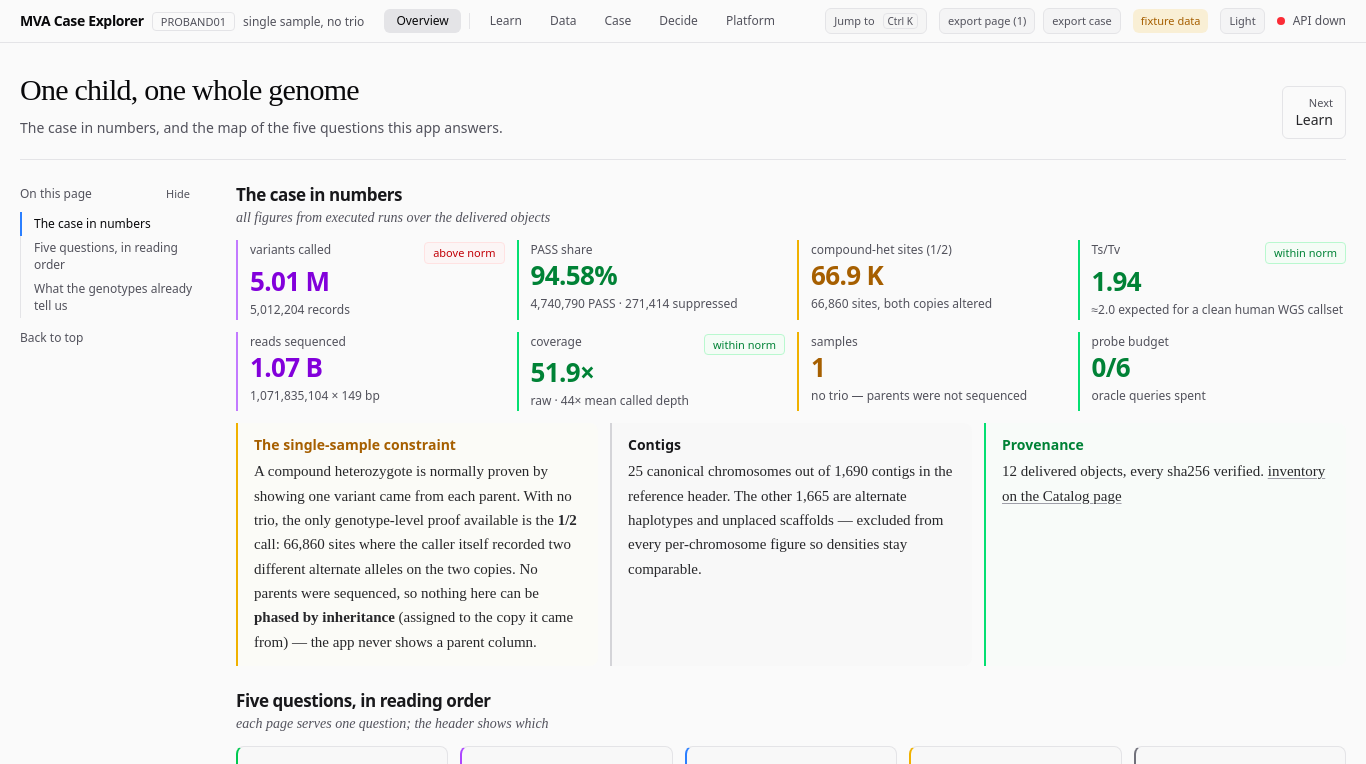
Test: navigating with the nav bar › renders the page the clicked link points at, not the previous one
The width and height of the screenshot is (1366, 764).
Expected: the heading "One child, one whole genome" is shown, [20,73,359,106]
# The Platform tab lands on its first page, Catalog.
Click the link "Platform".
click(750, 20)  # box [726,12,775,29]
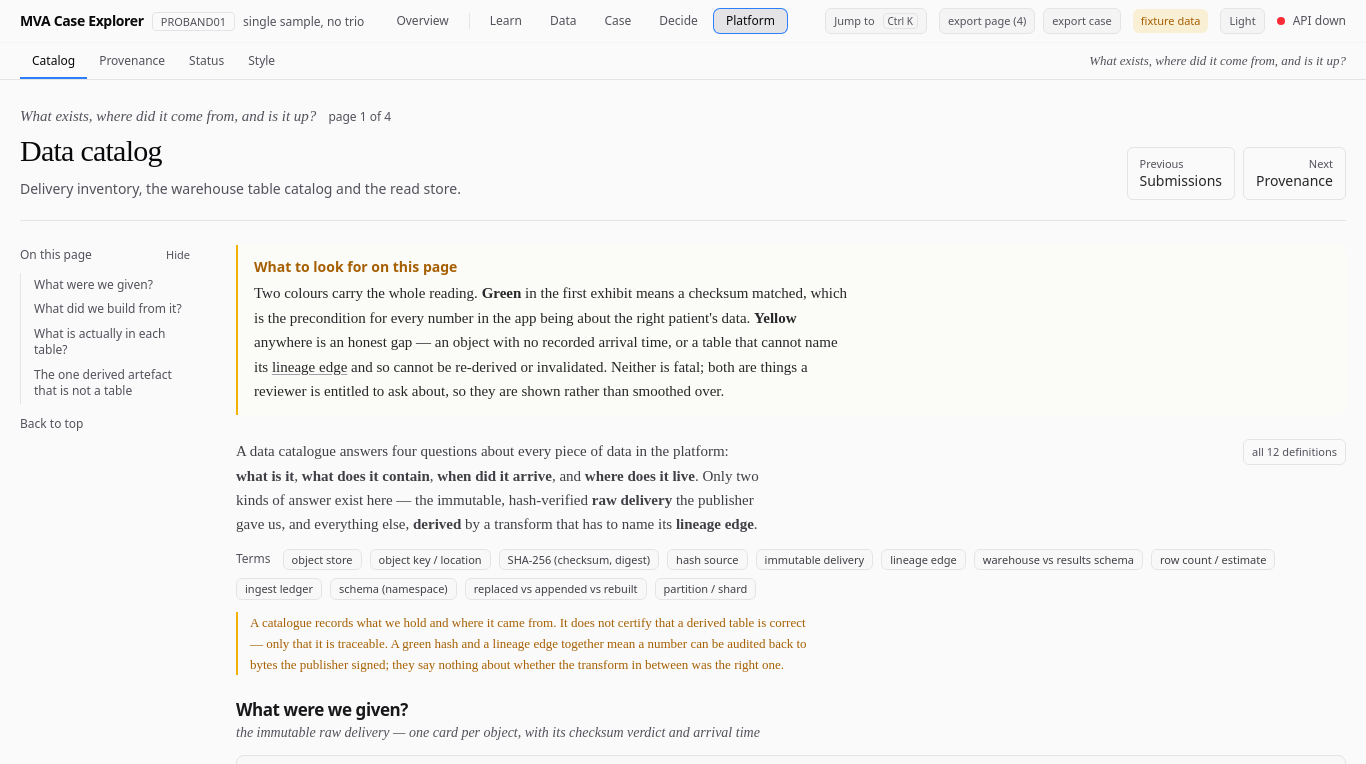
Expected: the heading "What were we given?" is shown, [236,698,408,721]
